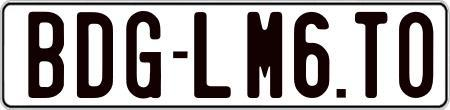0: (399, 9, 435, 96)
6: (292, 12, 327, 99)
B: (26, 10, 64, 100)
D: (76, 11, 113, 101)
G: (124, 8, 165, 98)
L: (192, 11, 230, 98)
M: (244, 12, 285, 103)
T: (353, 10, 388, 98)
